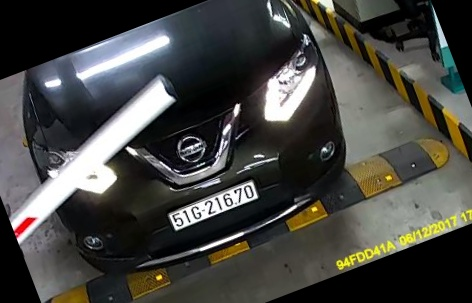plate: (159, 180, 268, 233)
